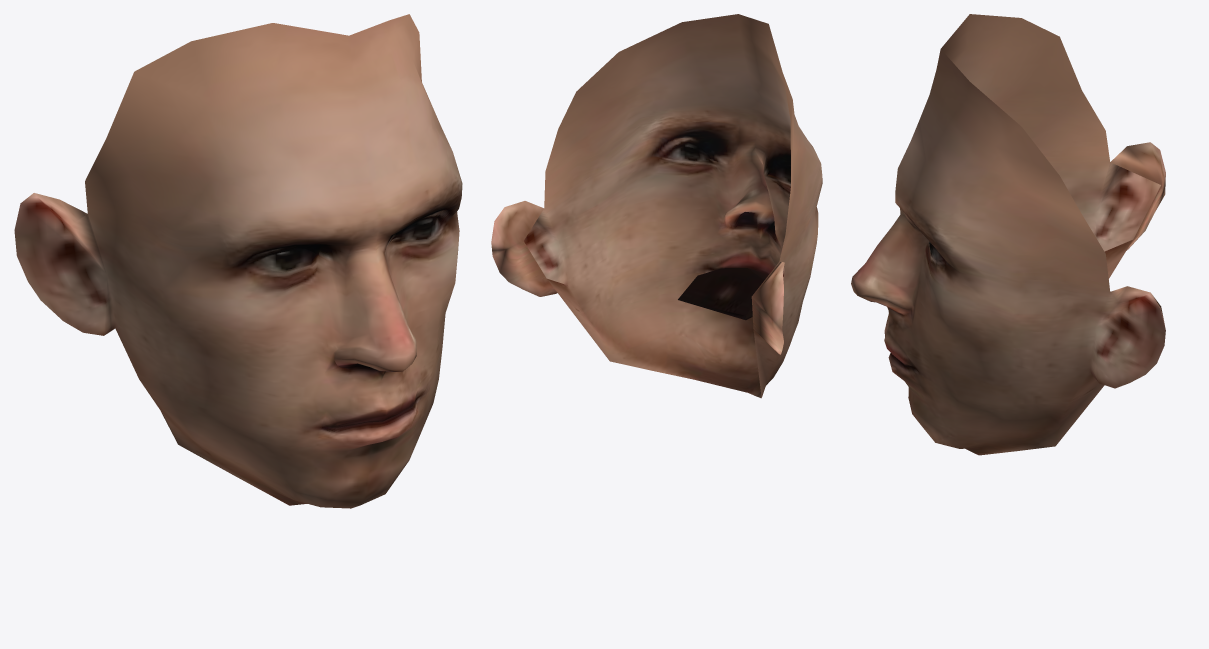
File: esp-olmo.glb
The picture shows the model from 3 angles, left to right: view 1: azimuth 30°, elevation 25°; view 2: azimuth 150°, elevation 25°; view 3: azimuth 270°, elevation 25°; orthographic projection. The views are drawn at different scales.
Visible parts, largest first — view 1: esp-olmo; view 2: esp-olmo; view 3: esp-olmo.
Boxes of the visible parts, x1,y1,x2,y2 form: esp-olmo: [14, 14, 462, 508]; esp-olmo: [491, 14, 822, 398]; esp-olmo: [851, 14, 1165, 455].
Size of the model in its own units: 0.1769 by 0.3165 by 0.1654.
Materials: 1 (1 with a texture image).
